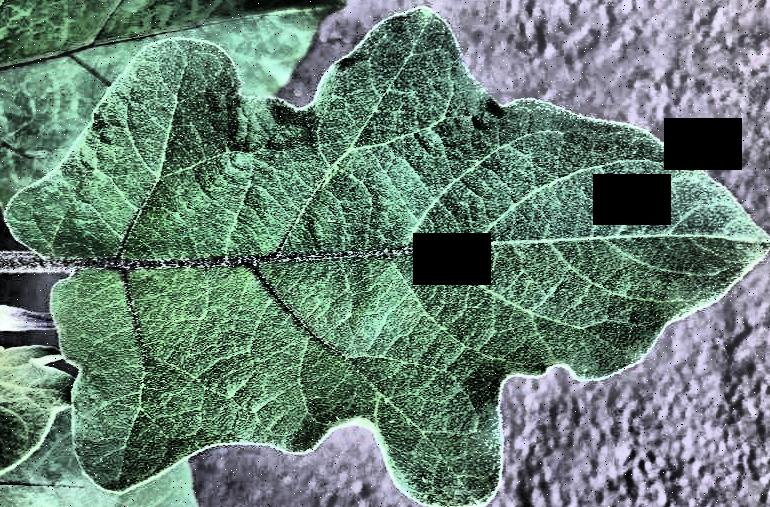HEALTHY: (0, 1, 770, 507)
